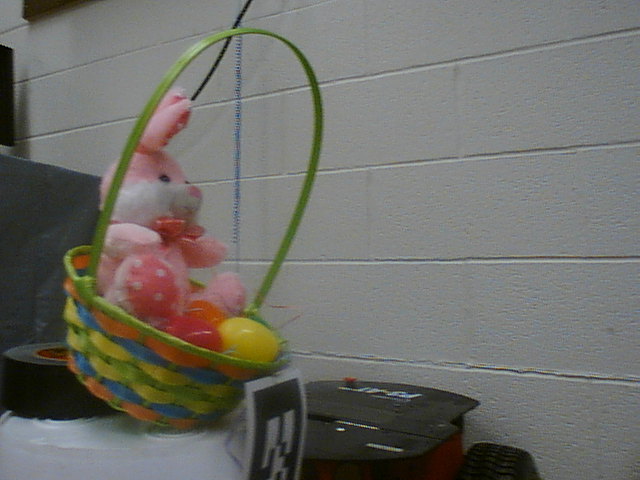bunny: (55, 19, 332, 432)
